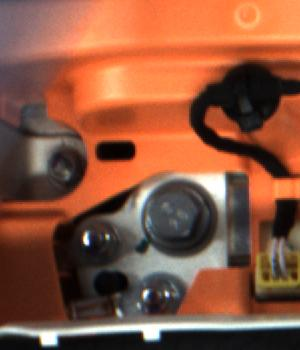nut_b: (141, 177, 220, 259)
